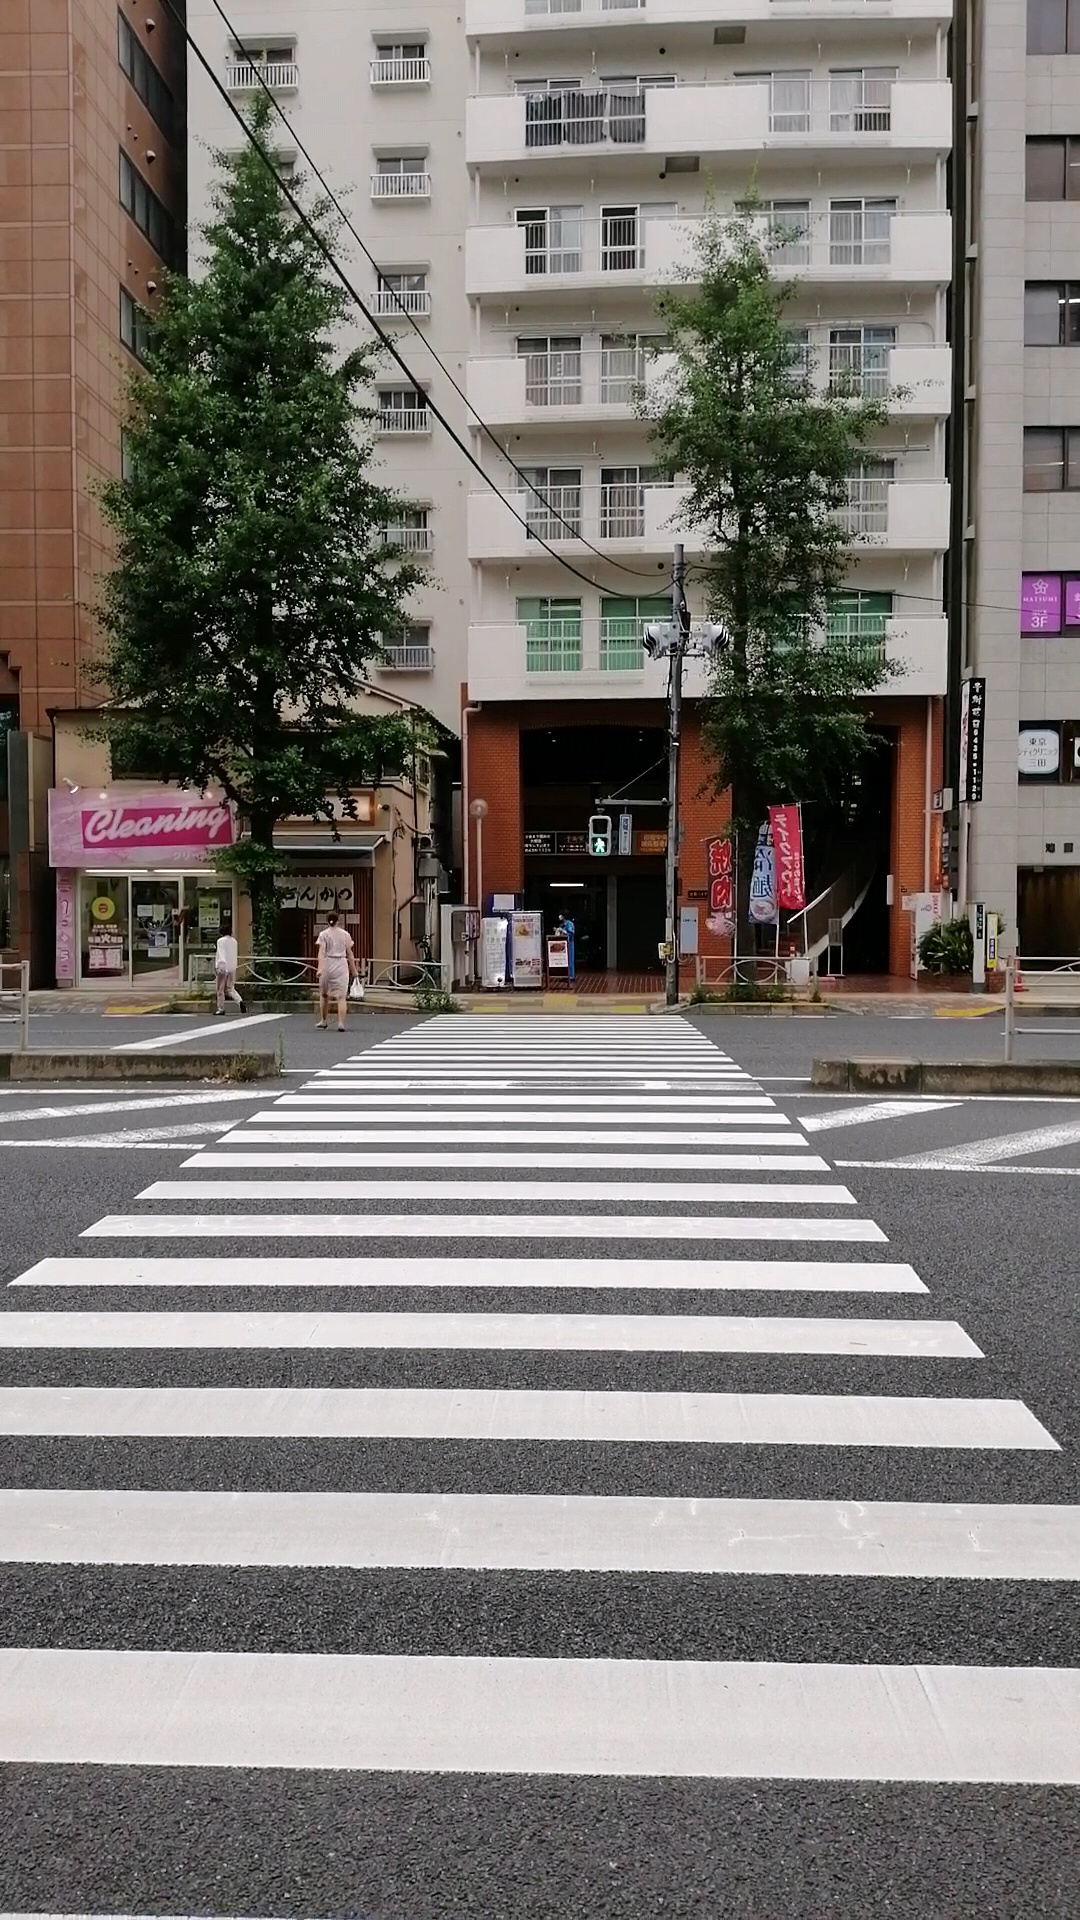green: (587, 814, 611, 858)
